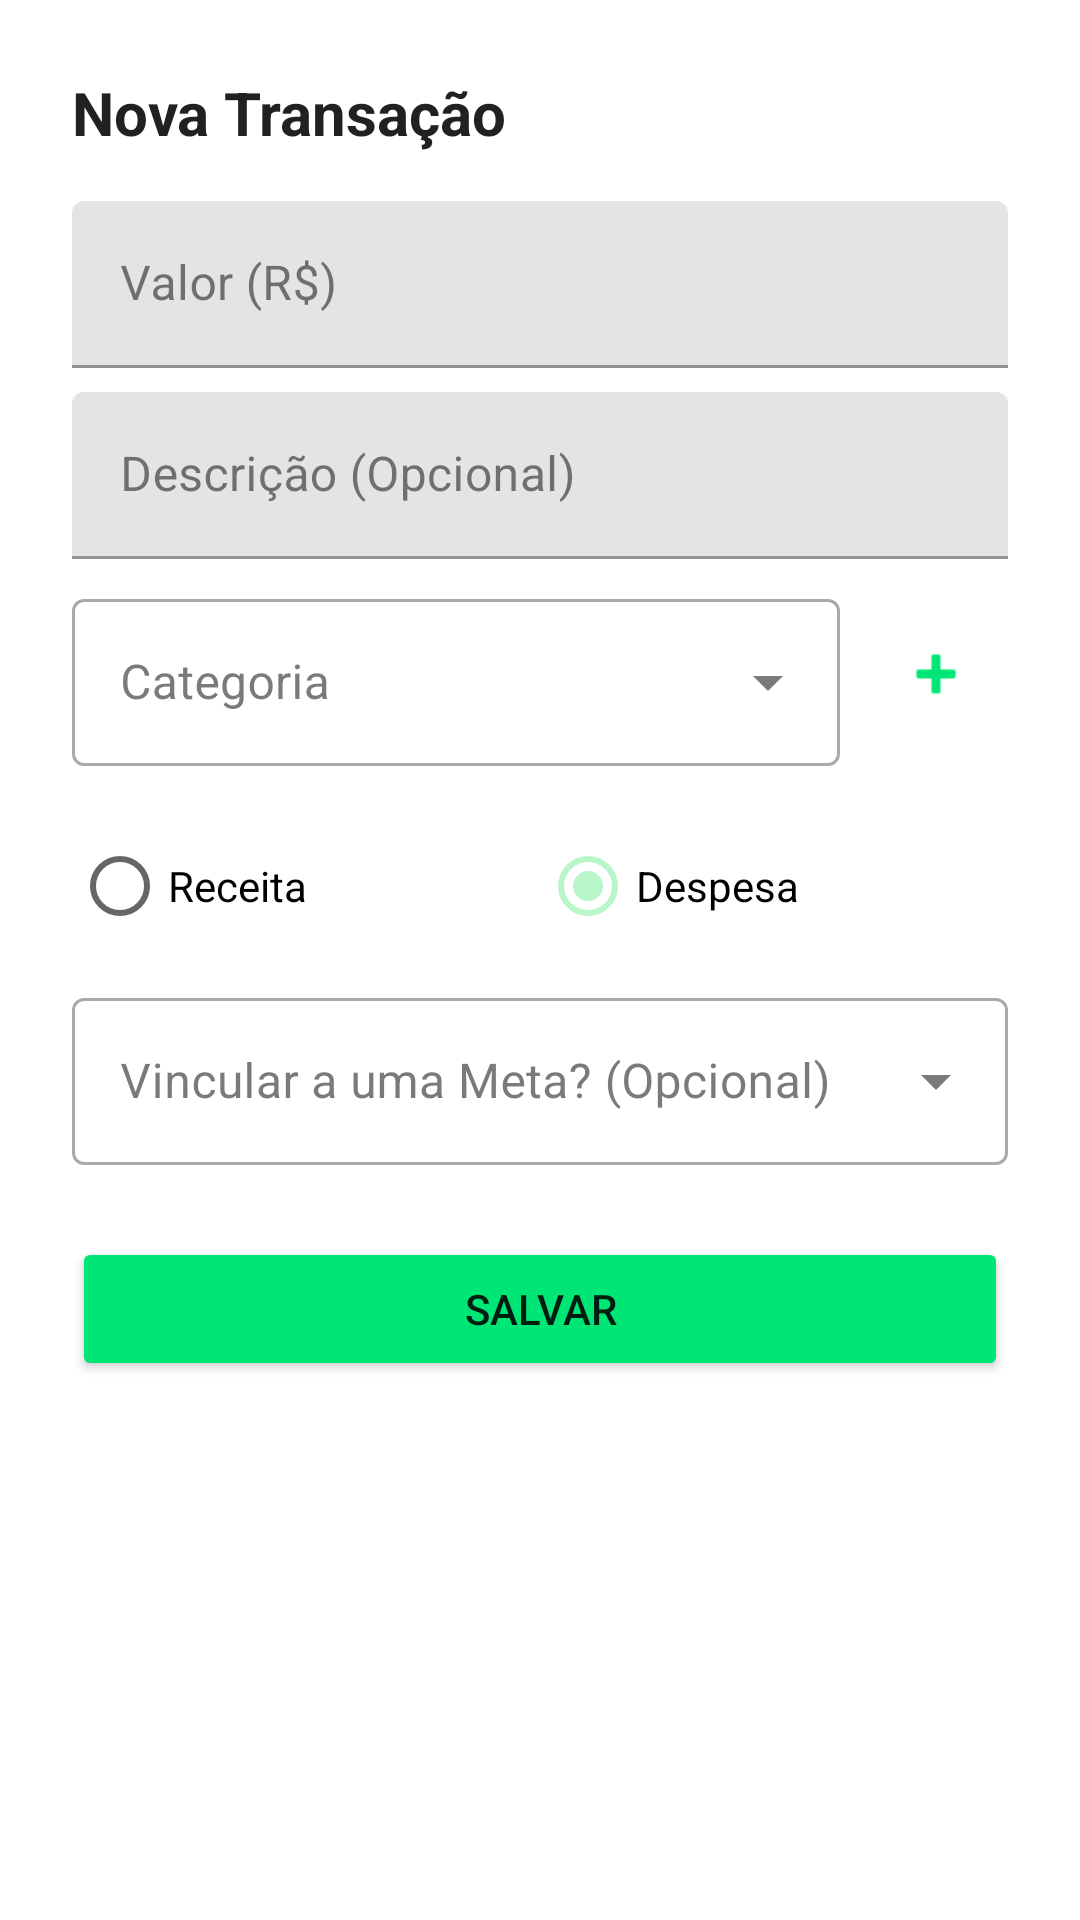

Icon click points for this 1080x1920 phone screenshot, format (x,y):
add: (936,674)
